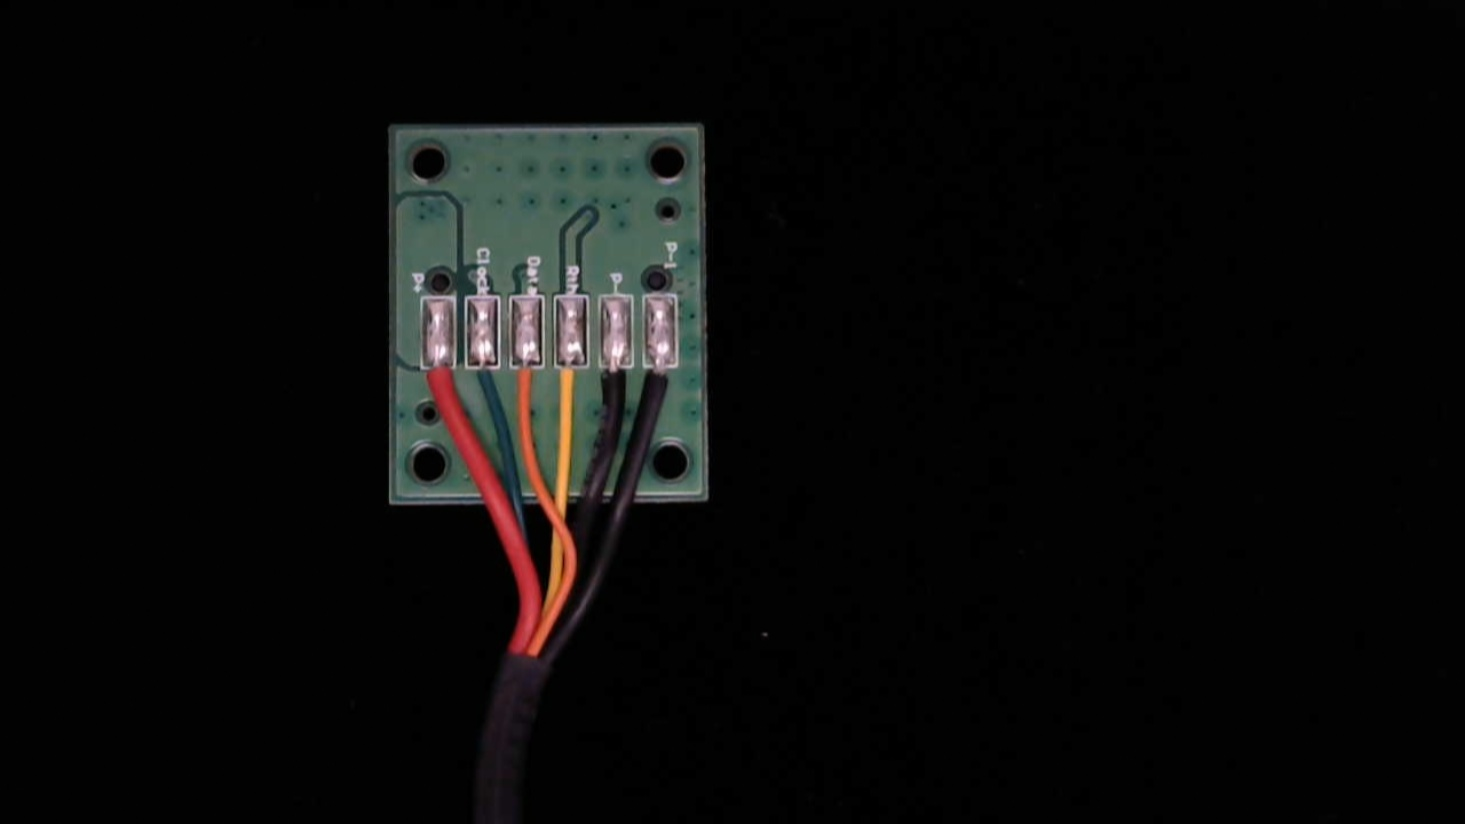Black: (602, 337, 641, 421)
Black1: (653, 337, 691, 413)
Green: (449, 336, 490, 414)
Orange: (501, 337, 538, 415)
Red: (400, 341, 444, 428)
Yellow: (552, 335, 590, 423)
